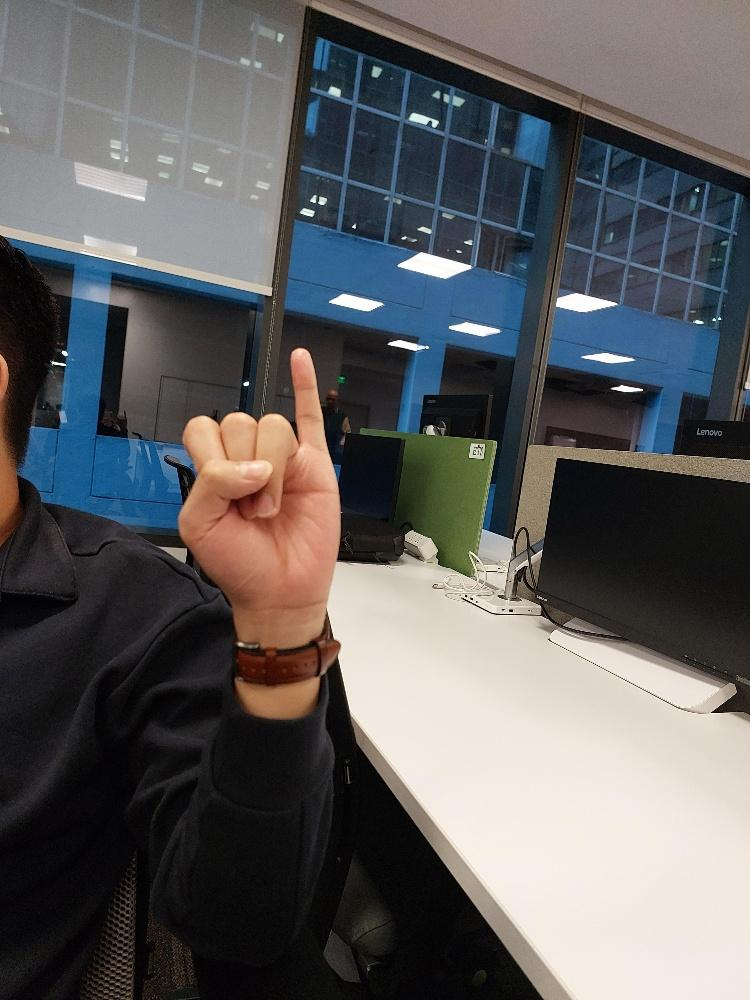j: (174, 348, 341, 599)
